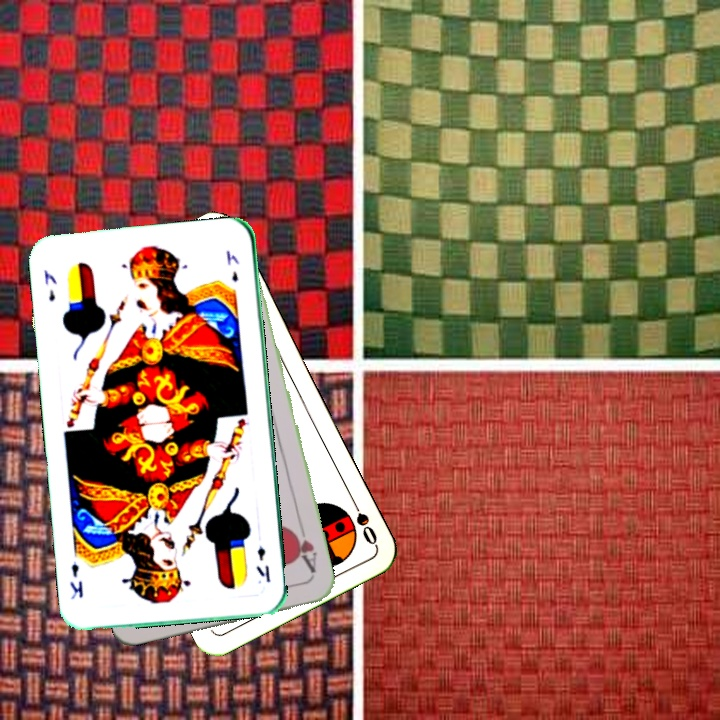EK: (252, 543, 273, 584), (40, 266, 60, 304)
HA: (287, 520, 320, 579)
SO: (346, 492, 380, 548)
